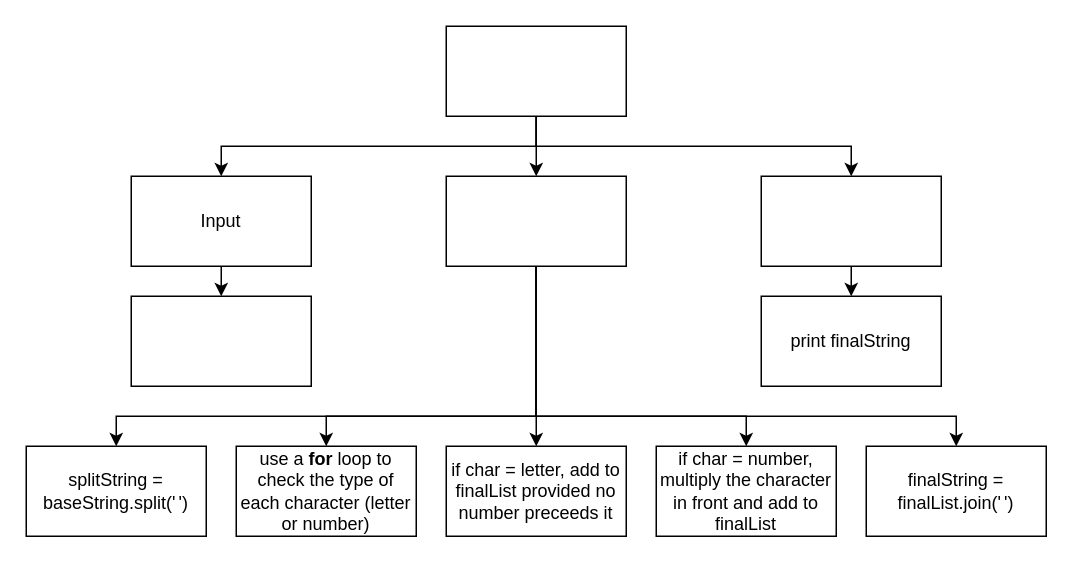
The diagram is 1073 pixels wide and 563 high, and some of its shapes have lost their labels. Here are the shapes that lost their labels. From the top down, the centre of each, then its label:
At point 535,70: "charMultiplier".
At point 535,220: "Process".
At point 850,220: "Output".
At point 220,340: "get baseString".
